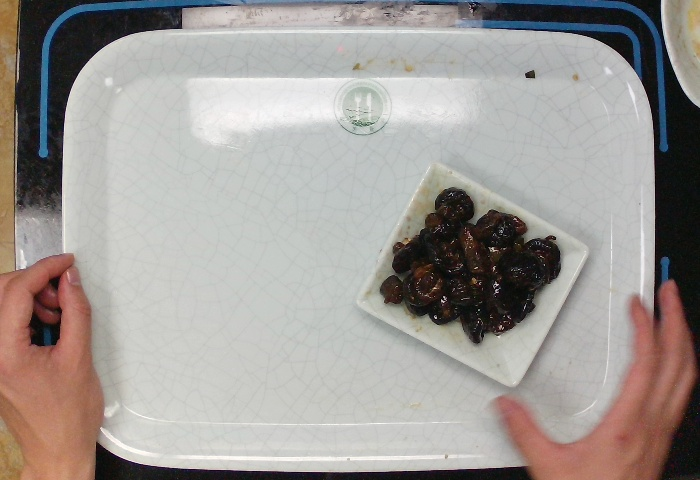WCQzf-Ru_Ci_Si_Fang_Die: (353, 158, 594, 395)
